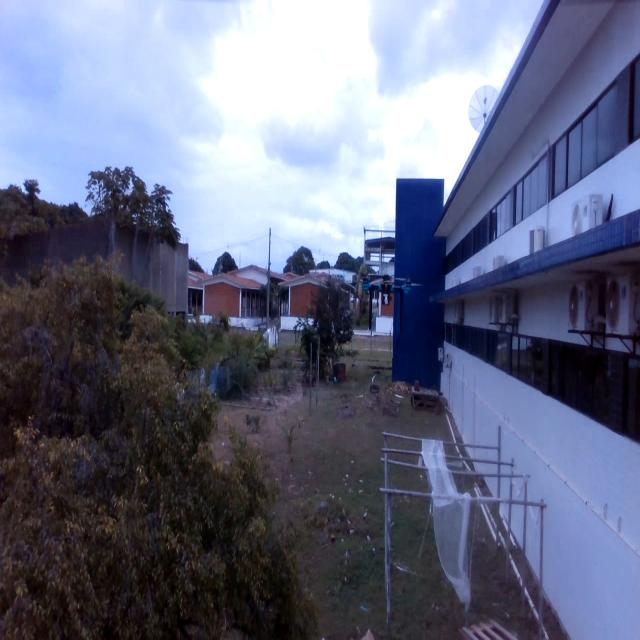-uav-: (365, 271, 414, 345)
